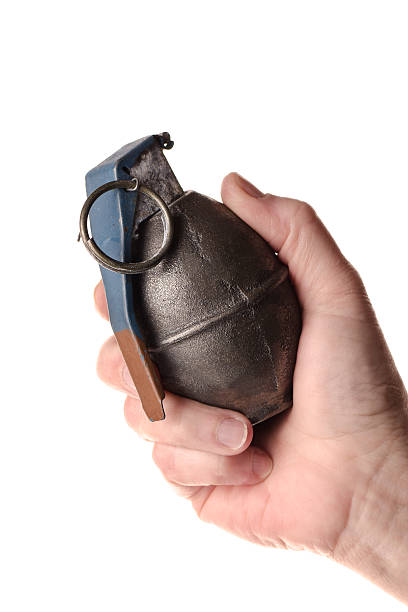e1: (69, 128, 305, 426)
